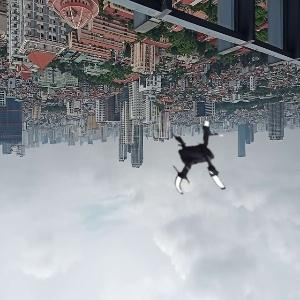drone: (156, 113, 243, 200)
